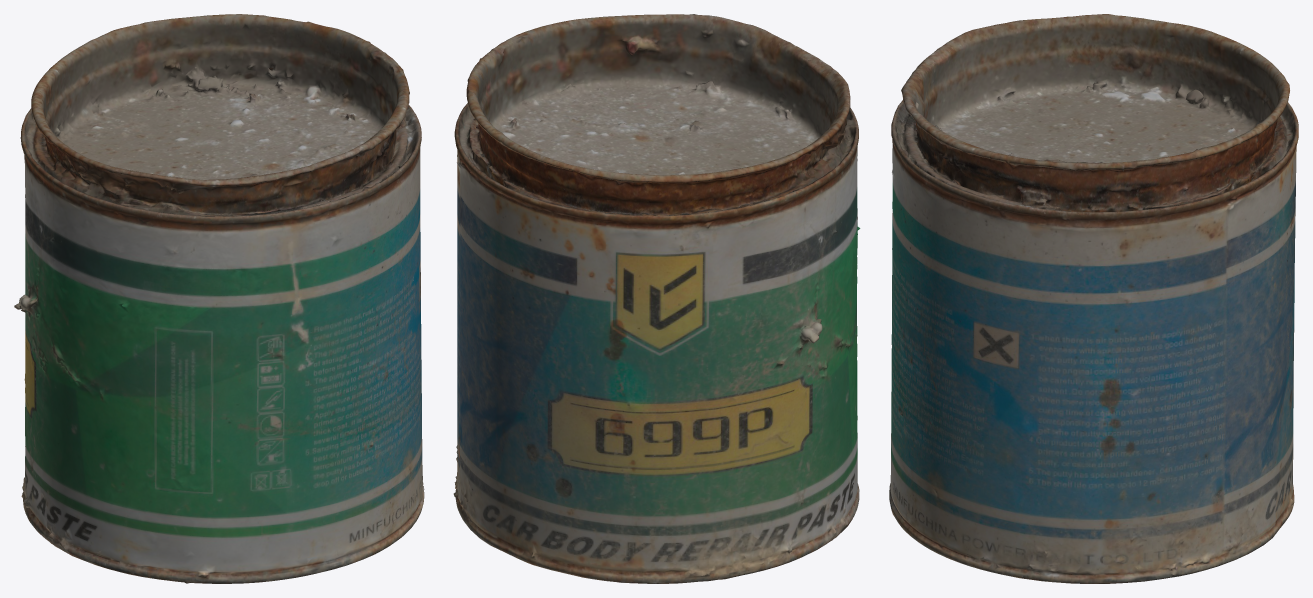
Rendered from OldPaintCan1.fbx.
3 views of the same model, side by side, from view 1: azimuth 30°, elevation 25°; view 2: azimuth 150°, elevation 25°; view 3: azimuth 270°, elevation 25° (orthographic).
Parts seen in each view (by area): view 1: Car Body Repair Paste; view 2: Car Body Repair Paste; view 3: Car Body Repair Paste.
Boxes of the visible parts, box(x1,y1,x2,y2) form: Car Body Repair Paste: box(14, 14, 424, 583); Car Body Repair Paste: box(453, 14, 860, 583); Car Body Repair Paste: box(889, 14, 1298, 583).
Size of the model in its own units: 16.55 by 18.23 by 16.23.
Materials: 1 (1 with a texture image).
